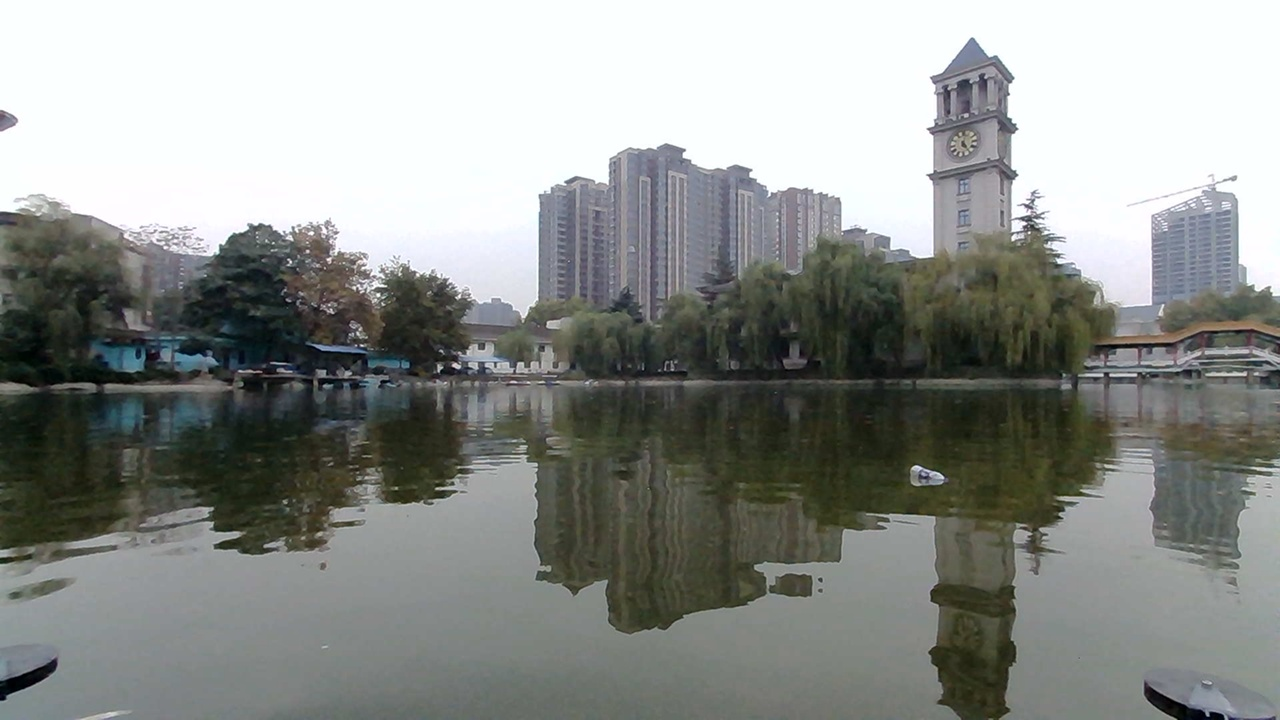bottle: (908, 461, 947, 491)
